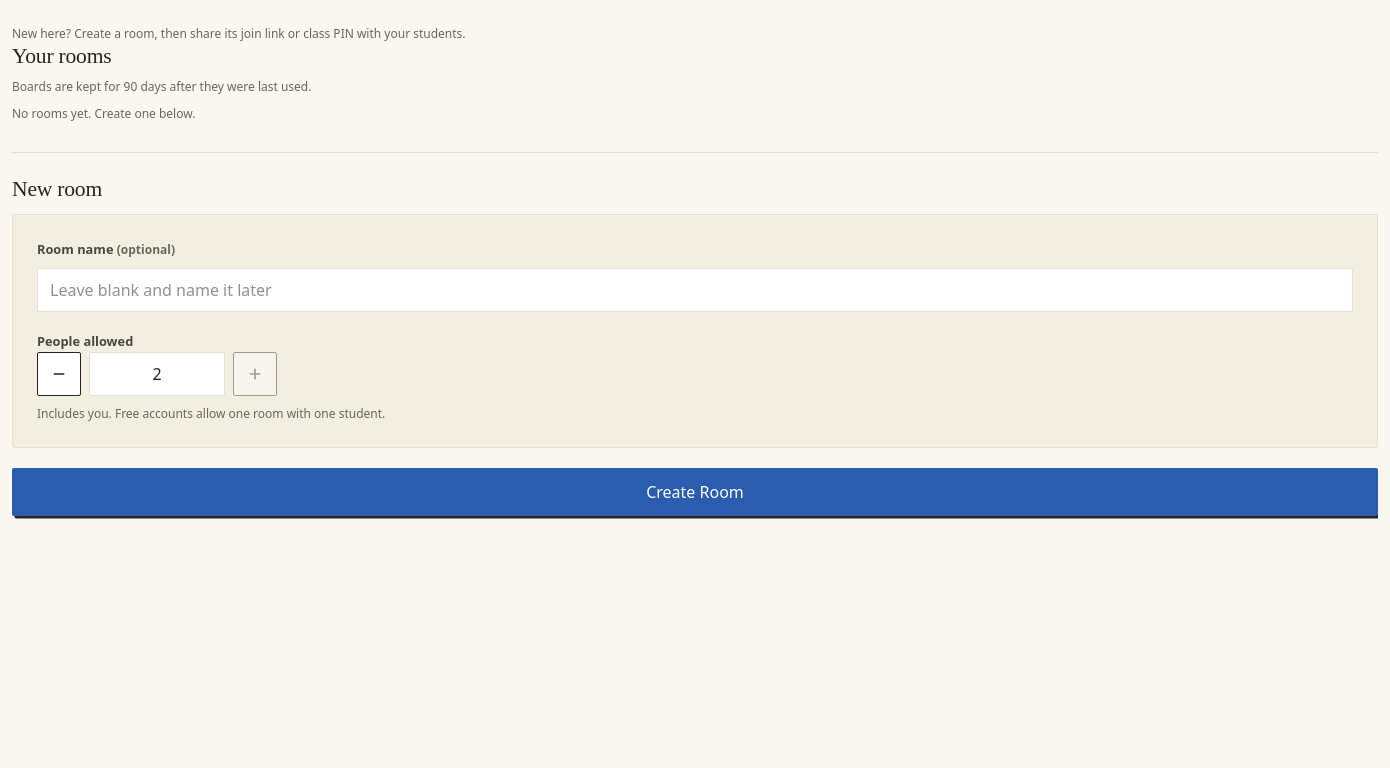
Test: TeacherRoomsPanel › shows the create failure and does not attempt a follow-up delete
Click the button with test id "whiteboard-create-room-btn": [695, 492] box x1=12 y1=468 x2=1378 y2=516
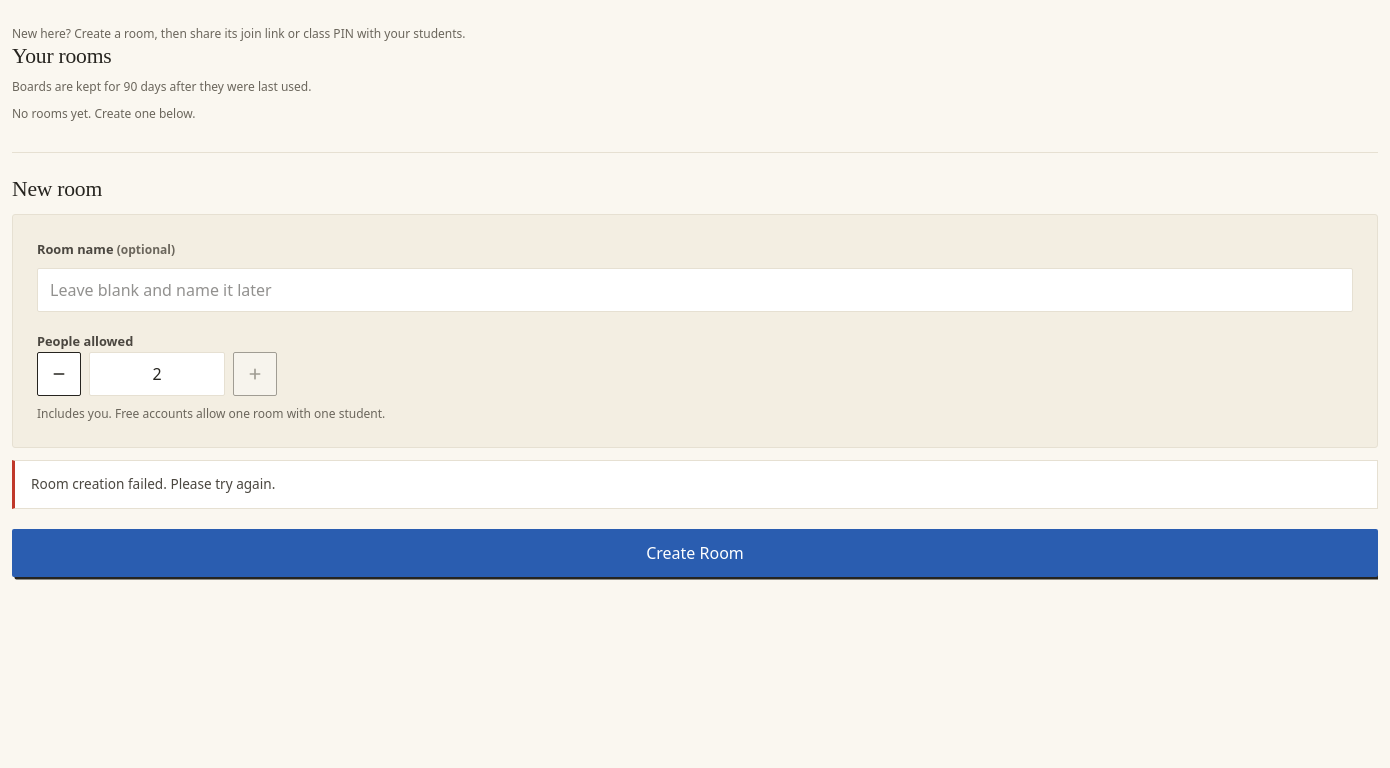
Check: the message with test id "whiteboard-create-room-error" shows "failed", box x1=31 y1=474 x2=275 y2=494
